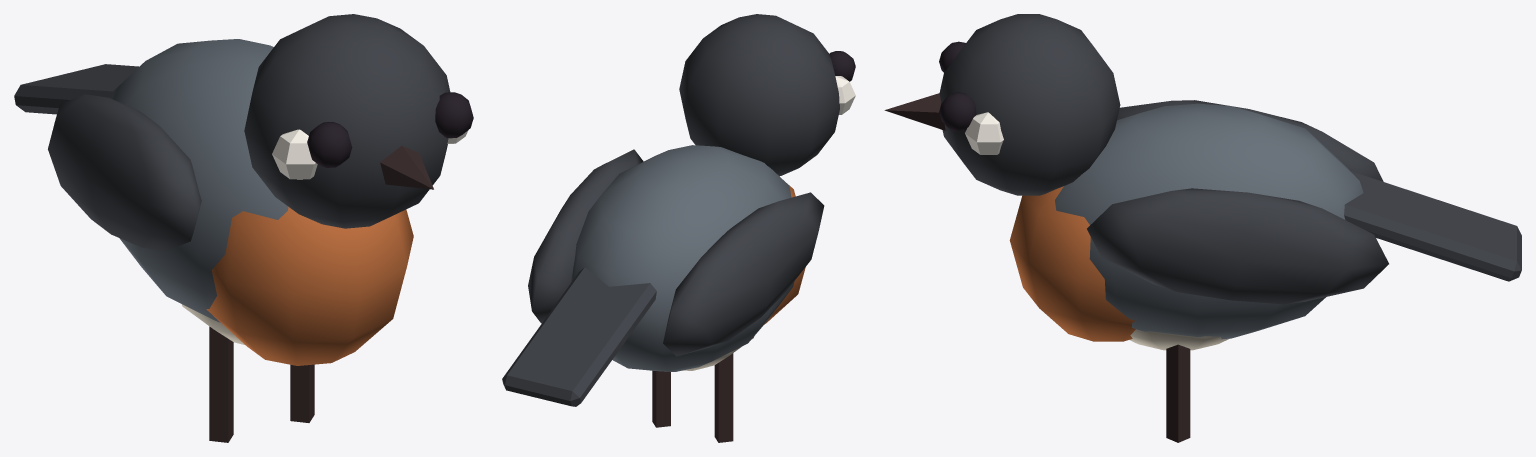
Rendered from critter_bird.glb.
3 views of the same model, side by side, from view 1: azimuth 30°, elevation 25°; view 2: azimuth 150°, elevation 25°; view 3: azimuth 270°, elevation 25° (orthographic). The views are drawn at different scales.
Parts seen in each view (by area): view 1: critter_bird; view 2: critter_bird; view 3: critter_bird.
Part boxes in pixels (x1,y1,x2,y2): critter_bird: (14, 14, 473, 442); critter_bird: (502, 14, 855, 442); critter_bird: (884, 14, 1521, 442).
Bounding box in the file's own units: 0.1359 × 0.221 × 0.3199.
